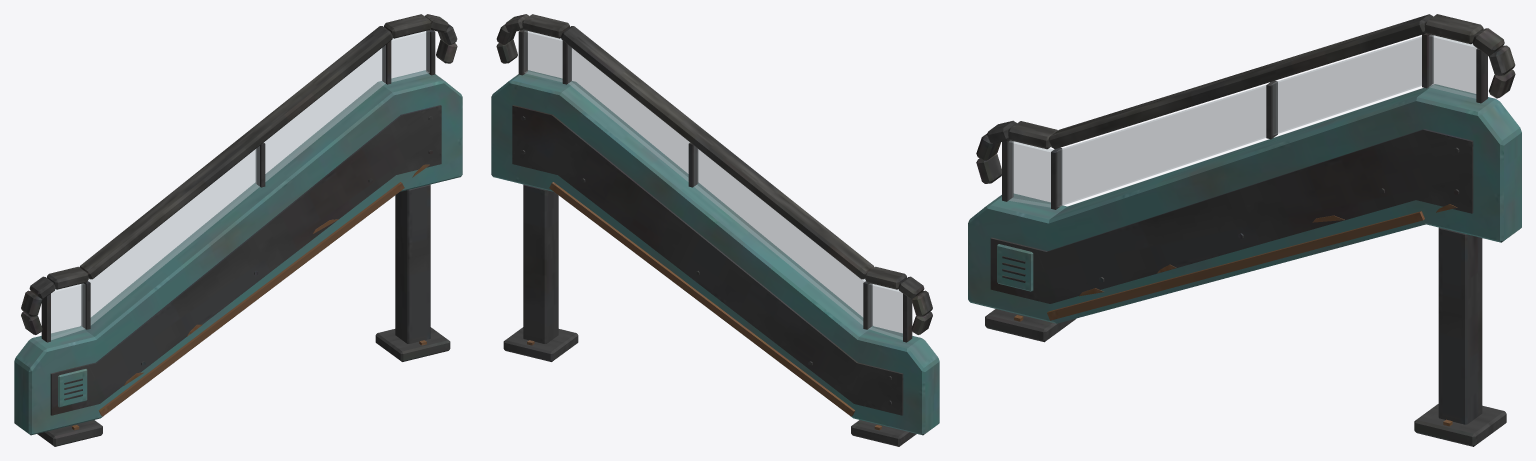
Rendered from RE09_escalator_side_panel.glb.
3 views of the same model, side by side, from view 1: azimuth 30°, elevation 25°; view 2: azimuth 150°, elevation 25°; view 3: azimuth 330°, elevation 25° (orthographic). The views are drawn at different scales.
Parts seen in each view (by area): view 1: Folded steel side casing; view 2: Folded steel side casing; view 3: Folded steel side casing.
Part boxes in pixels (left/top/right/bottom): Folded steel side casing: left=14, top=14, right=462, bottom=446; Folded steel side casing: left=491, top=14, right=939, bottom=446; Folded steel side casing: left=968, top=14, right=1521, bottom=446.
Bounding box in the file's own units: 3 × 2.16 × 0.3243.
6 materials, 5 textured.
